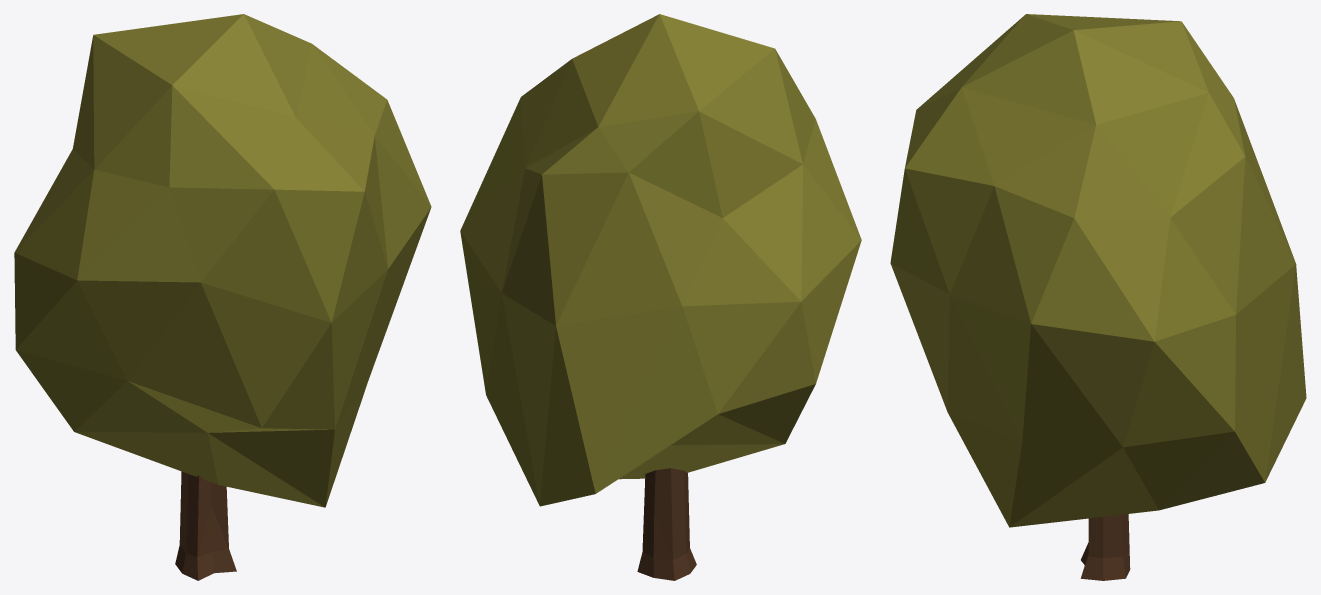
The model's file is Tree_62_Yellow.fbx.
3 renders of one model, left to right at view 1: azimuth 30°, elevation 25°; view 2: azimuth 150°, elevation 25°; view 3: azimuth 270°, elevation 25°, orthographic. The views are drawn at different scales.
Visible parts, largest first — view 1: Tree_62_Yellow_Part_1, Tree_62_Yellow_Part_2; view 2: Tree_62_Yellow_Part_1, Tree_62_Yellow_Part_2; view 3: Tree_62_Yellow_Part_1, Tree_62_Yellow_Part_2.
Boxes of the visible parts, <box> form: Tree_62_Yellow_Part_1: <box>14,14,431,507</box>; Tree_62_Yellow_Part_2: <box>175,471,236,580</box>; Tree_62_Yellow_Part_1: <box>460,14,861,506</box>; Tree_62_Yellow_Part_2: <box>637,468,696,580</box>; Tree_62_Yellow_Part_1: <box>890,14,1306,527</box>; Tree_62_Yellow_Part_2: <box>1080,514,1130,580</box>.
Bounding box in the file's own units: 533 × 788 × 540.
